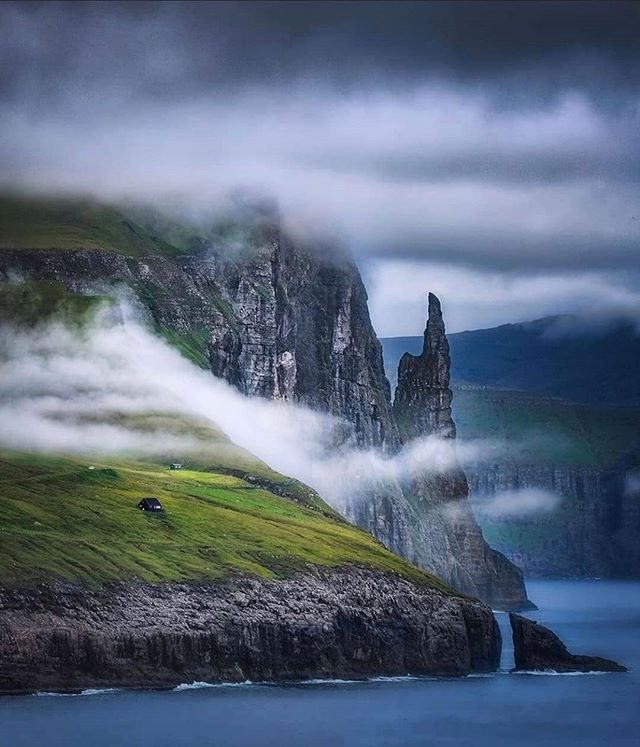building: (138, 496, 165, 516)
sea: (1, 673, 640, 747)
sky: (10, 1, 640, 190)
